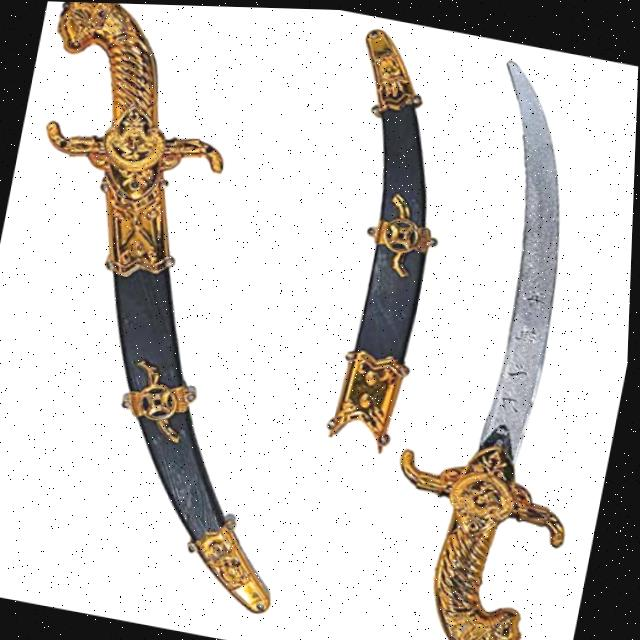knife: (0, 0, 390, 621), (348, 43, 639, 640), (258, 16, 518, 460)
